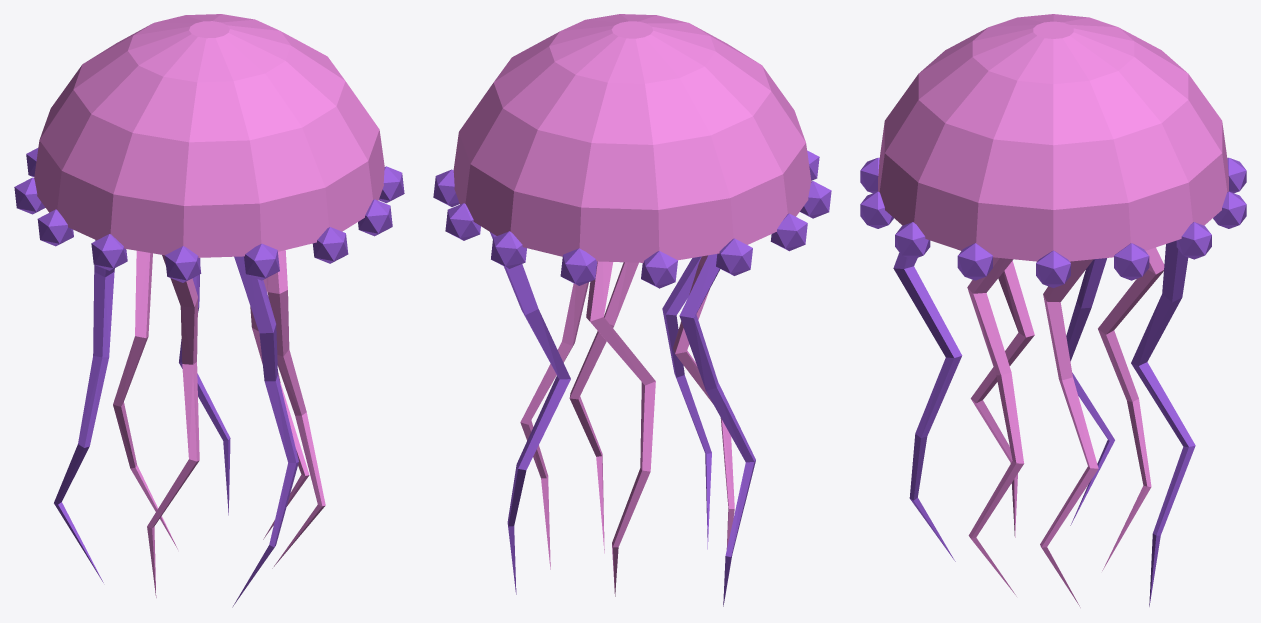
Rendered from Jellyfish.obj.
3 views of the same model, side by side, from view 1: azimuth 30°, elevation 25°; view 2: azimuth 150°, elevation 25°; view 3: azimuth 270°, elevation 25° (orthographic). The views are drawn at different scales.
Visible parts, largest first — view 1: Jellyfish; view 2: Jellyfish; view 3: Jellyfish.
Part boxes in pixels (left/top/right/bottom): Jellyfish: left=14, top=14, right=404, bottom=607; Jellyfish: left=433, top=14, right=831, bottom=606; Jellyfish: left=860, top=14, right=1246, bottom=607.
Size of the model in its own units: 0.5737 by 0.87 by 0.558.
